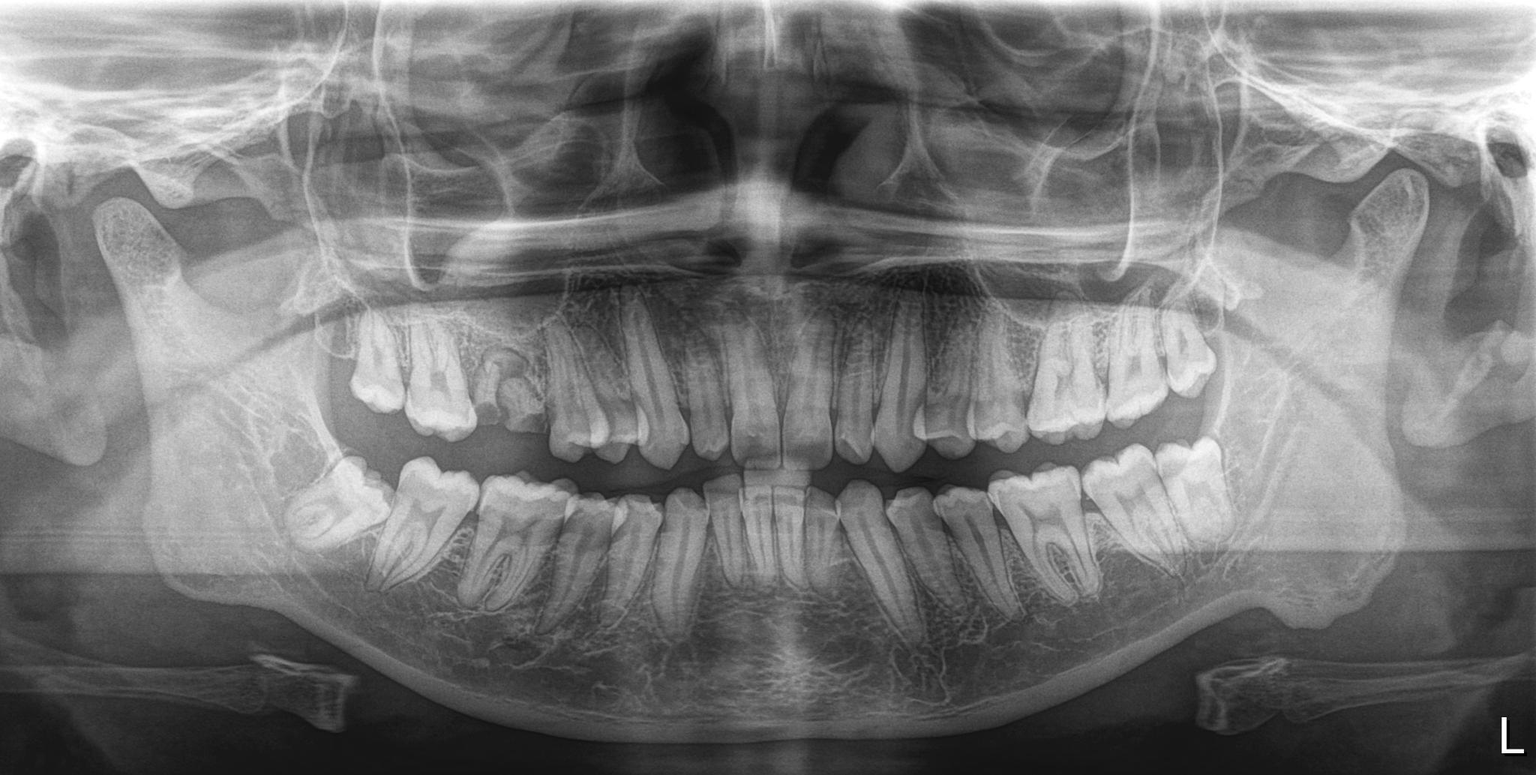Impacted Third Molar: (287, 441, 388, 533), (1159, 445, 1243, 539)
Retained Root: (474, 338, 548, 440)
